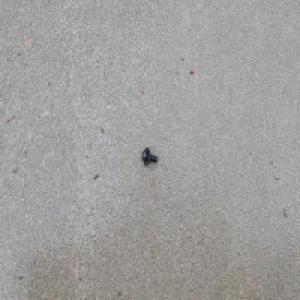BoltWasher: (141, 147, 157, 166)
